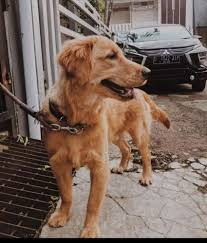Golden Retriever: (19, 25, 175, 235)
